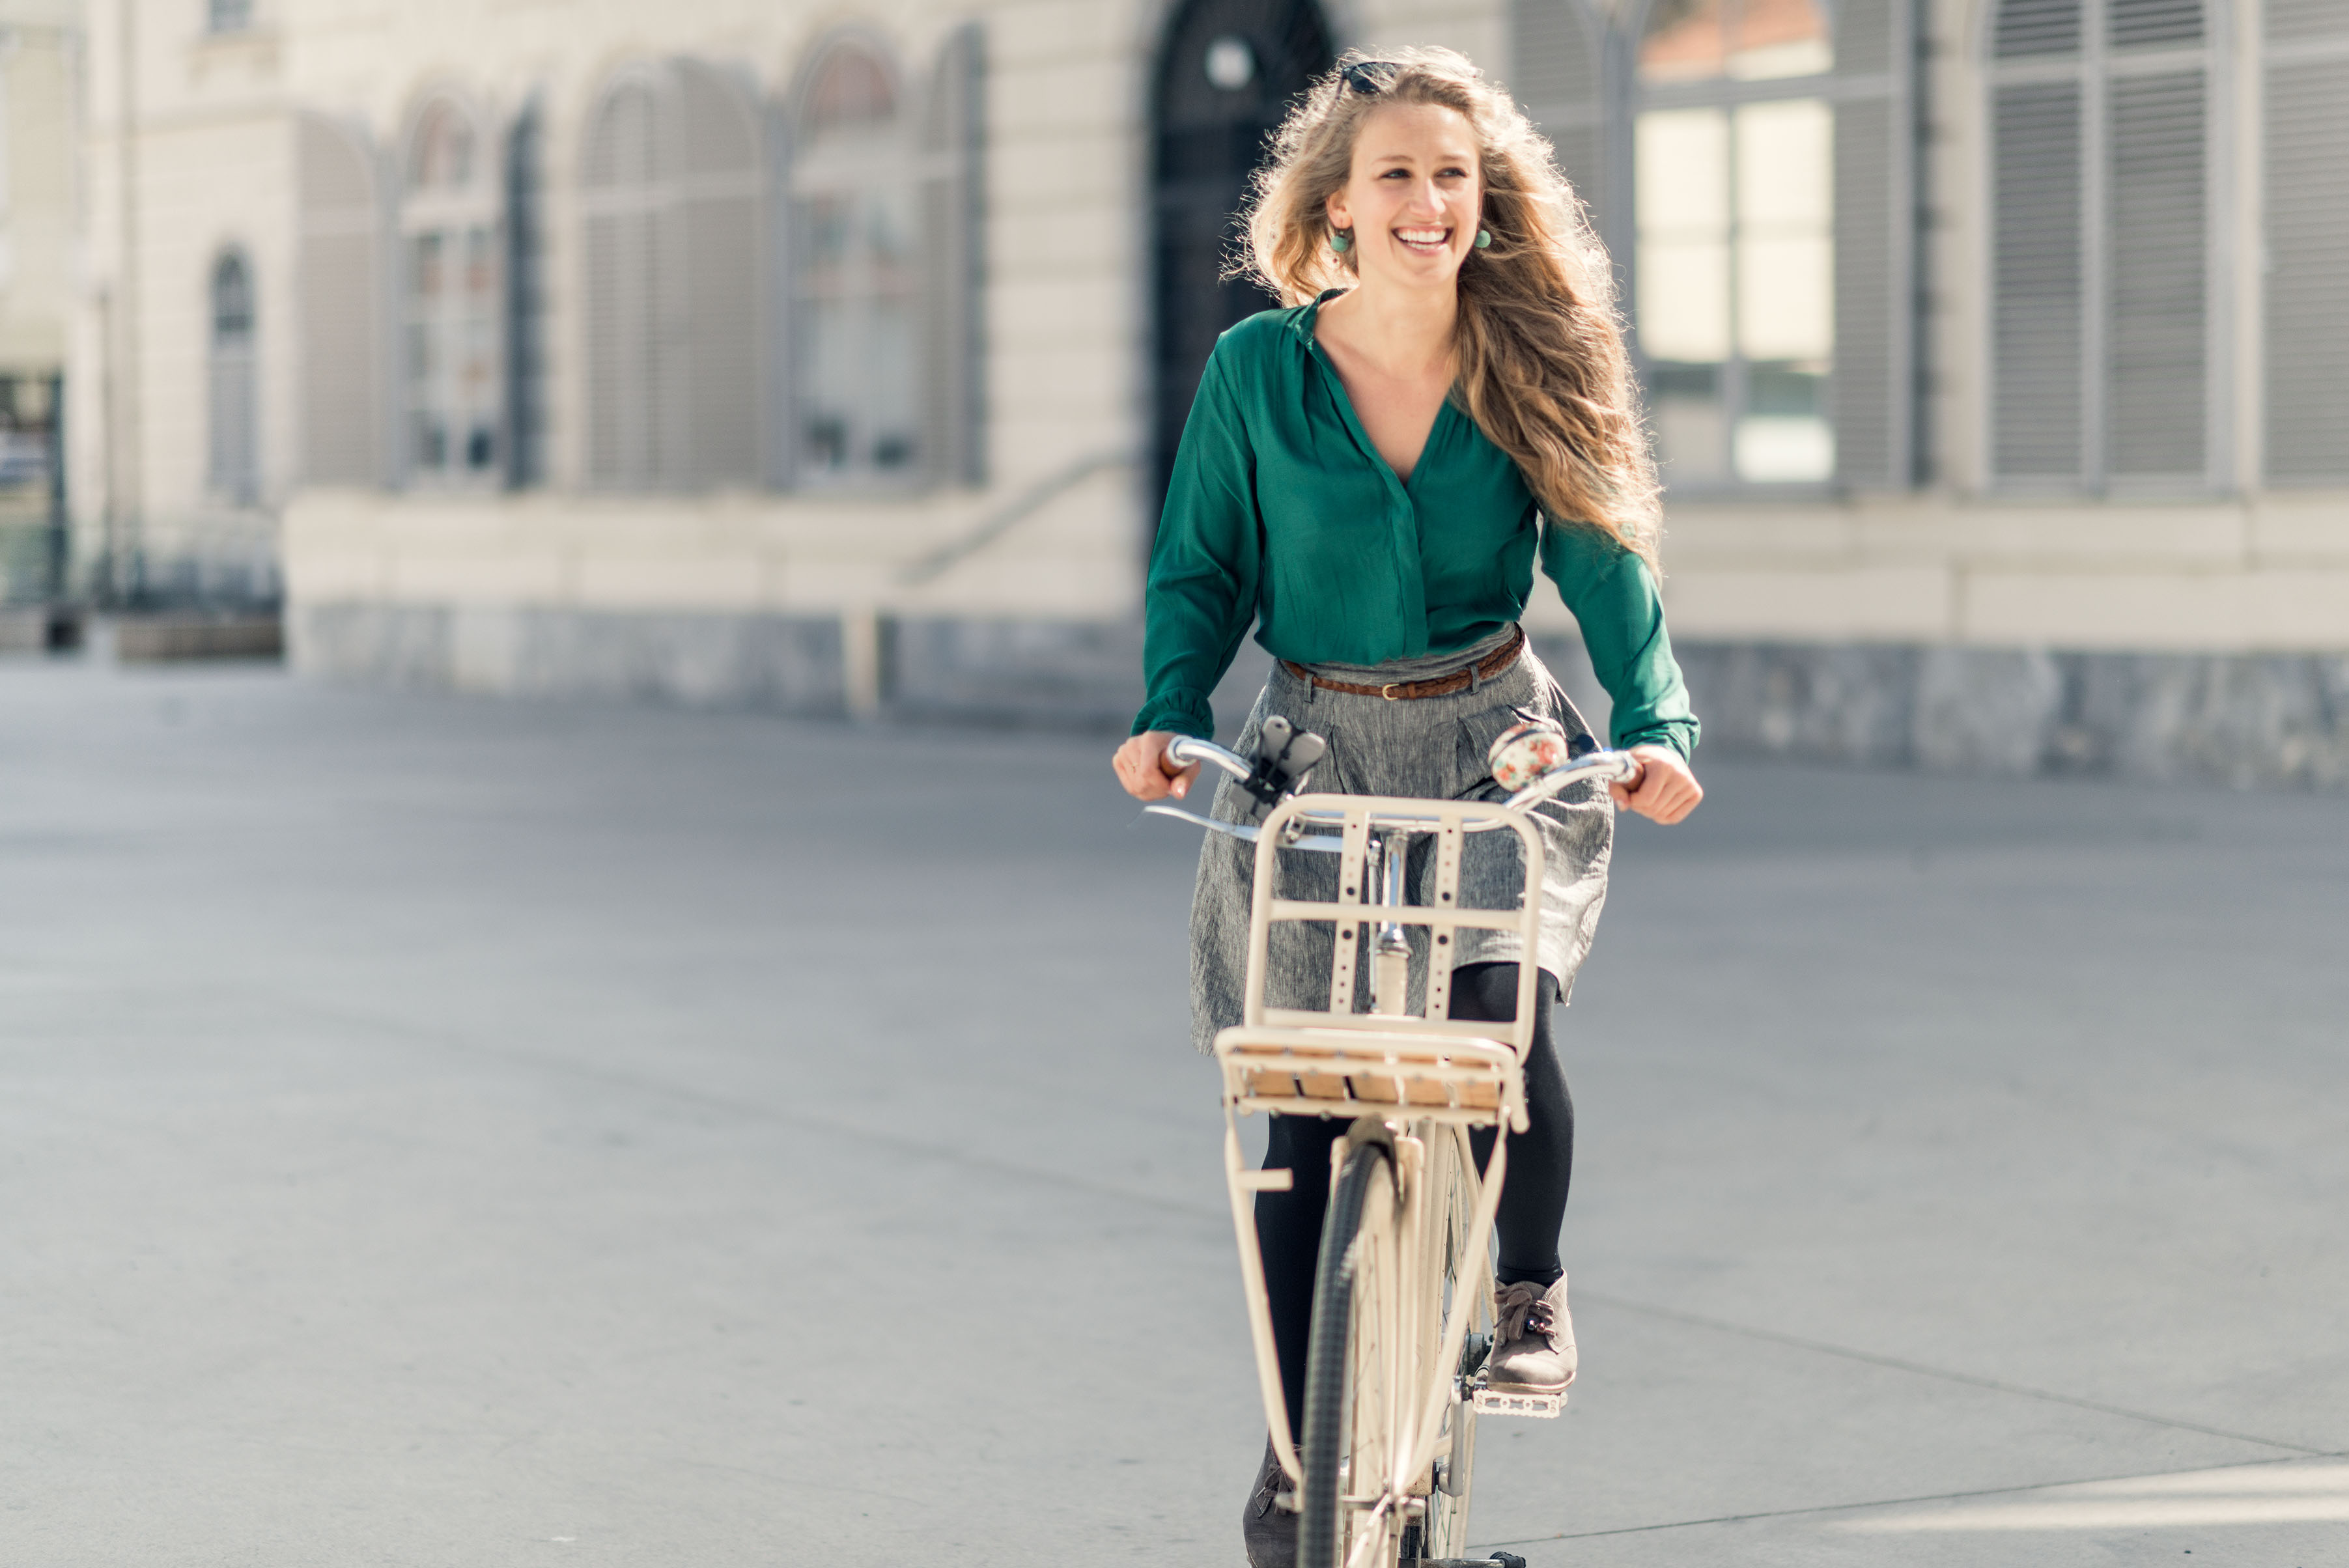commuter: (1099, 68, 1722, 1568)
